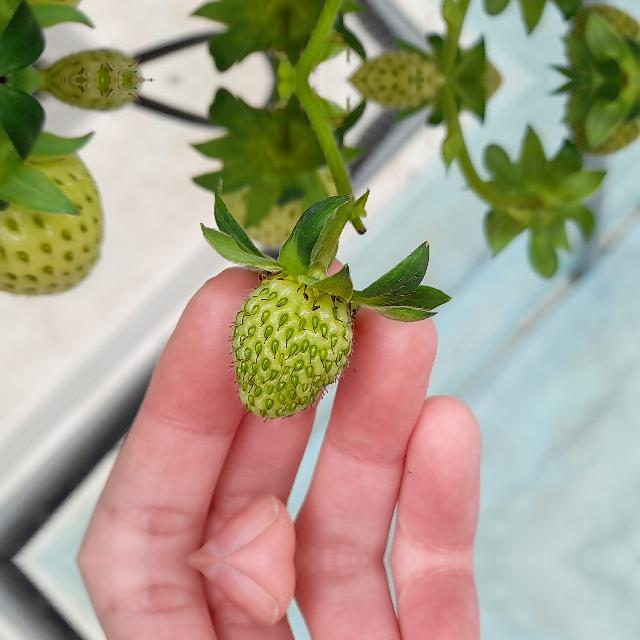Health_25: (1, 117, 104, 299), (230, 279, 352, 419), (1, 0, 104, 43)
